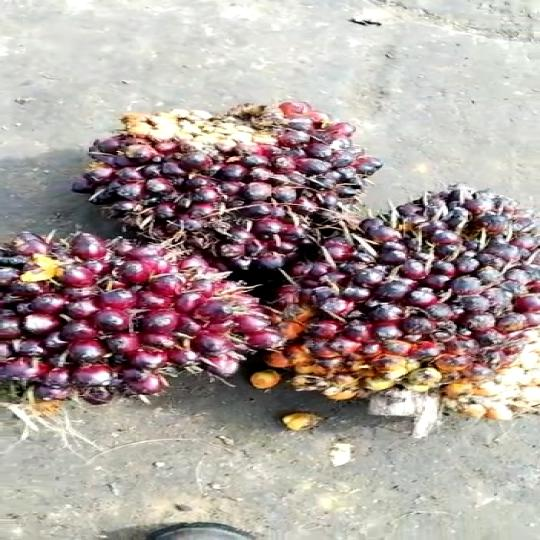kurang masak: (271, 172, 540, 440), (93, 95, 363, 270), (0, 228, 275, 399)
